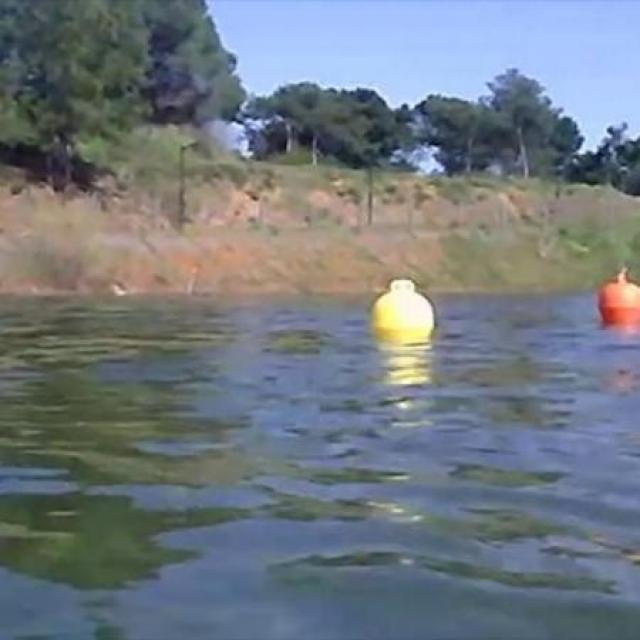buoy: (369, 277, 435, 343), (596, 273, 638, 329)
